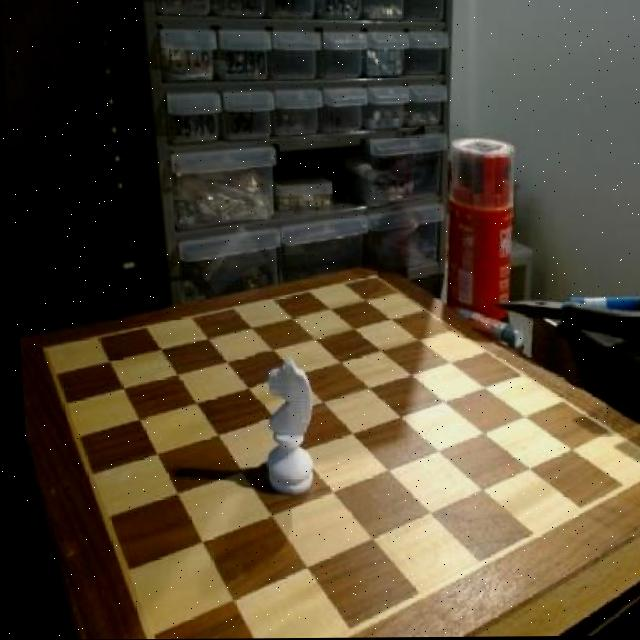white-king: (251, 354, 317, 498)
